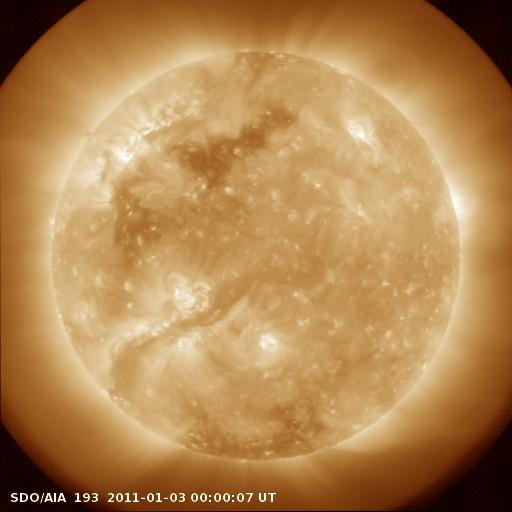coronal_hole: (171, 103, 294, 187), (179, 402, 322, 460), (107, 188, 169, 254)
